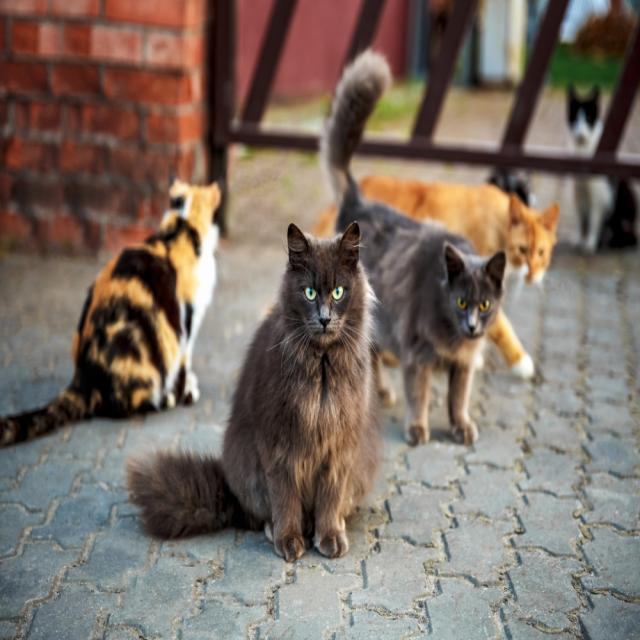cat: (126, 223, 380, 561), (321, 51, 506, 445), (0, 182, 220, 446), (359, 175, 560, 282), (360, 175, 560, 282), (575, 176, 638, 252), (489, 310, 534, 377), (568, 86, 601, 154)
